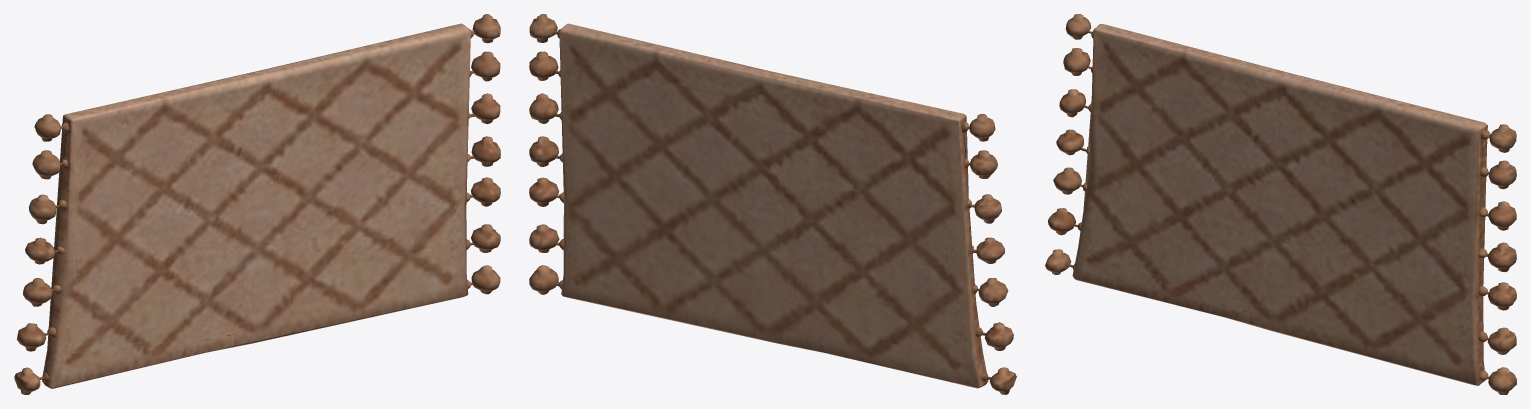
The model's file is rug.weave.glb.
The picture shows the model from 3 angles, left to right: view 1: azimuth 30°, elevation 25°; view 2: azimuth 150°, elevation 25°; view 3: azimuth 330°, elevation 25°; orthographic projection. The views are drawn at different scales.
Visible parts, largest first — view 1: geometry_0; view 2: geometry_0; view 3: geometry_0.
Part boxes in pixels (x1=…): geometry_0: x1=14, y1=14, x2=500, y2=394; geometry_0: x1=529, y1=14, x2=1016, y2=394; geometry_0: x1=1045, y1=14, x2=1516, y2=394.
Bounding box in the file's own units: 1 × 0.5739 × 0.0636.
1 material, 1 textured.
